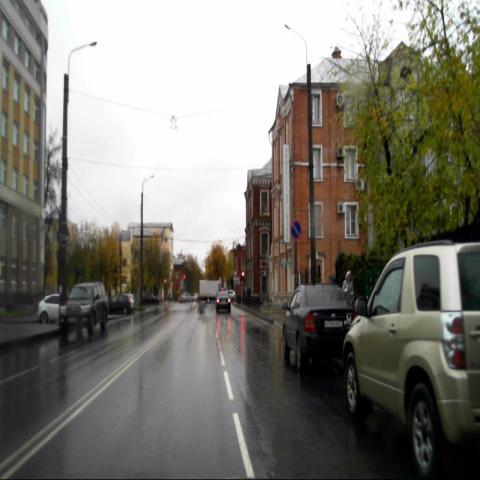3_28: (290, 219, 302, 241)
